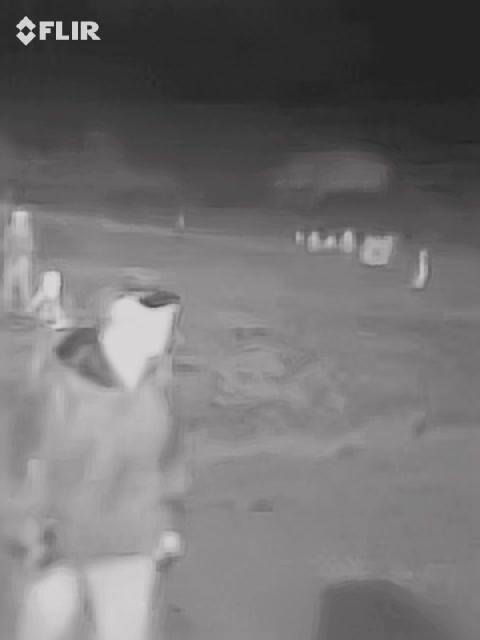head: (97, 266, 180, 367)
